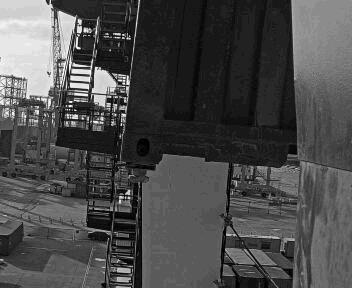twist_lock_1: (120, 158, 160, 187)
